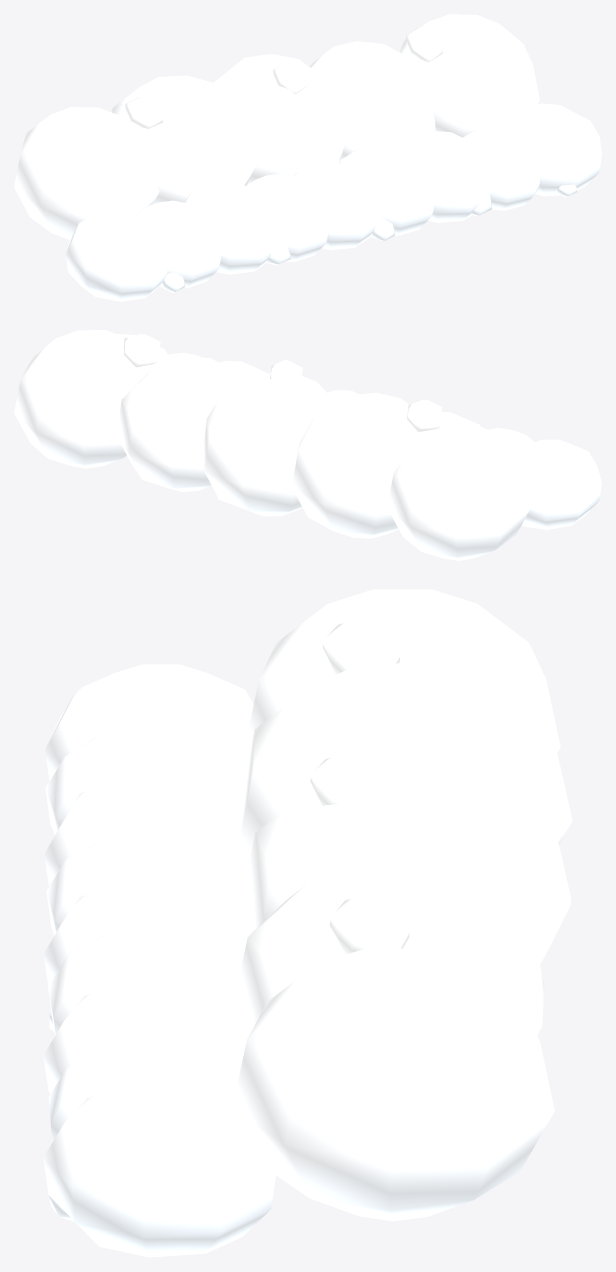
File: snow-wave.glb
The picture shows the model from 3 angles, top to bottom: view 1: azimuth 30°, elevation 25°; view 2: azimuth 150°, elevation 25°; view 3: azimuth 270°, elevation 25°; orthographic projection. The views are drawn at different scales.
Visible parts, largest first — view 1: snow-wave; view 2: snow-wave; view 3: snow-wave.
Boxes of the visible parts, x1,y1,x2,y2 form: snow-wave: [14, 14, 601, 301]; snow-wave: [14, 330, 601, 560]; snow-wave: [43, 589, 572, 1257].
Size of the model in its own units: 36 by 9 by 16.
